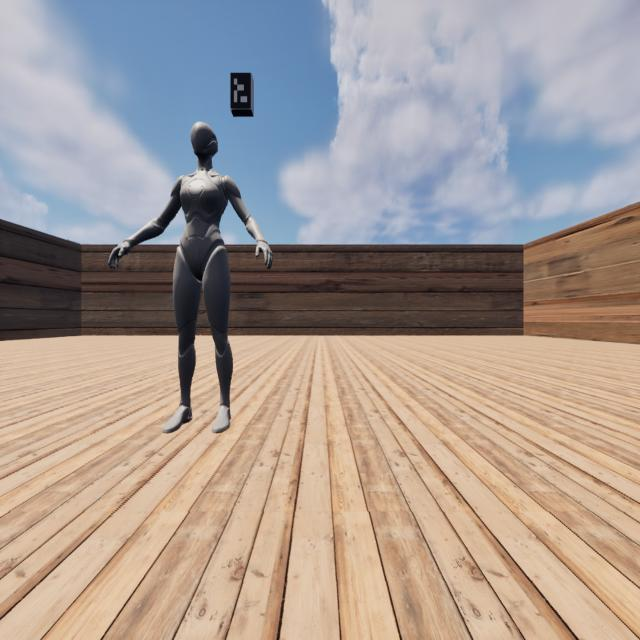aruco: (231, 72, 250, 110)
hip: (175, 246, 229, 264)
